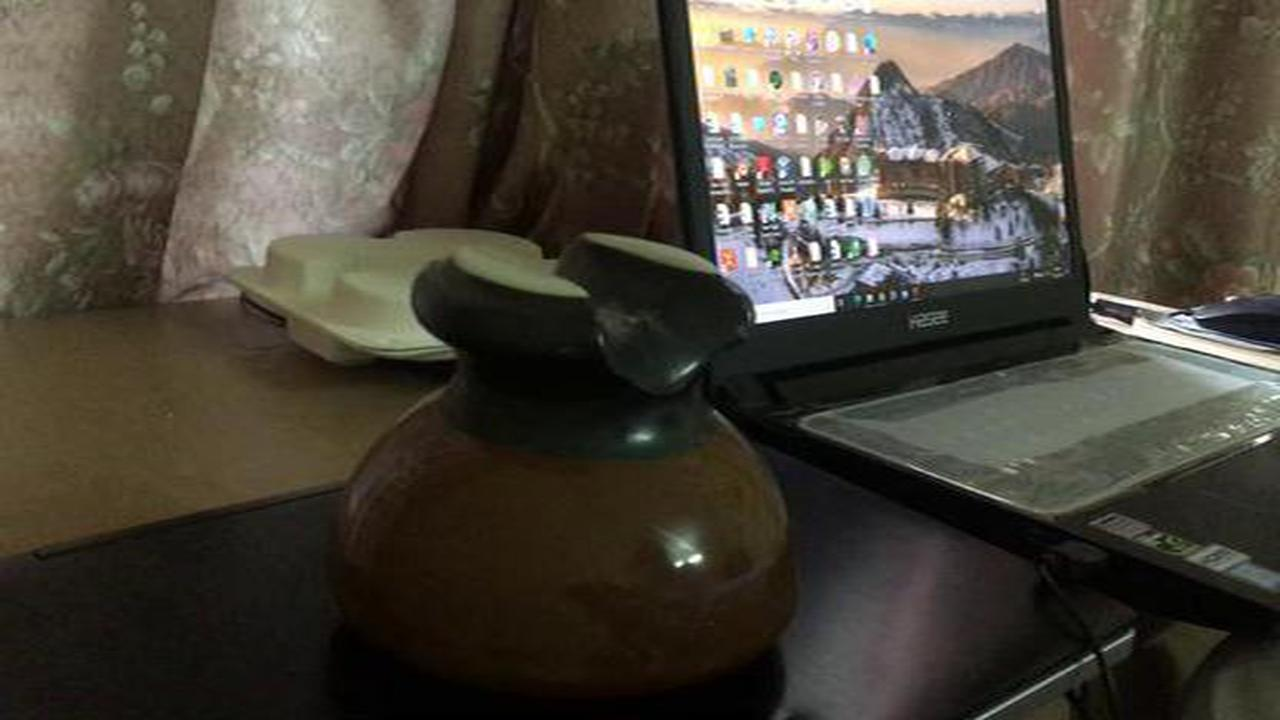insulator_pin: (311, 219, 819, 710)
